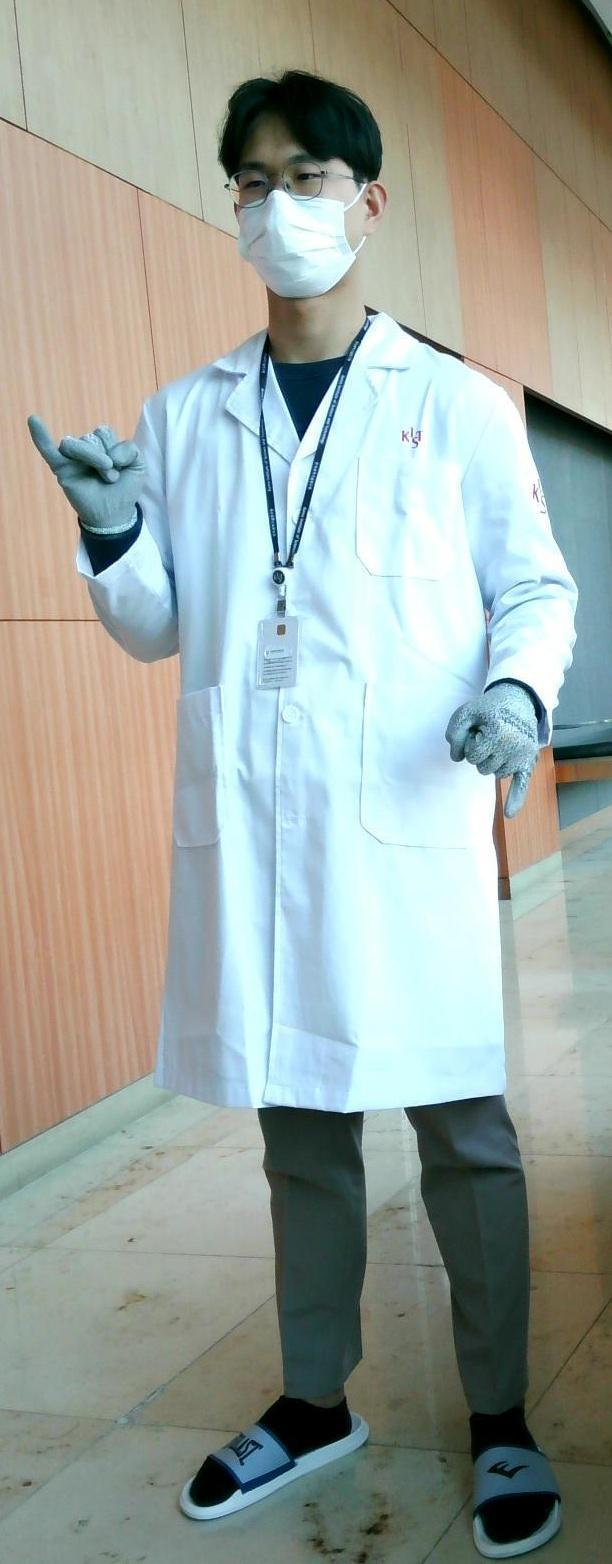lab_coat: (167, 377, 487, 1106)
